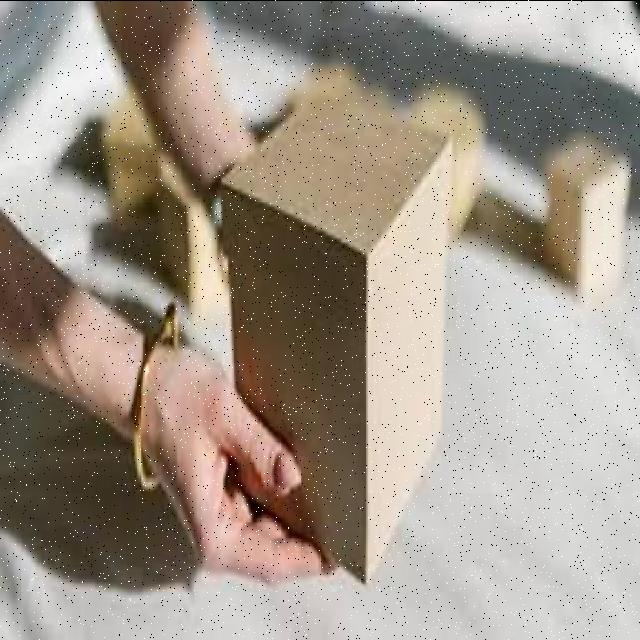normal: (211, 97, 463, 581)
